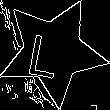L_N: (33, 24, 73, 79)
